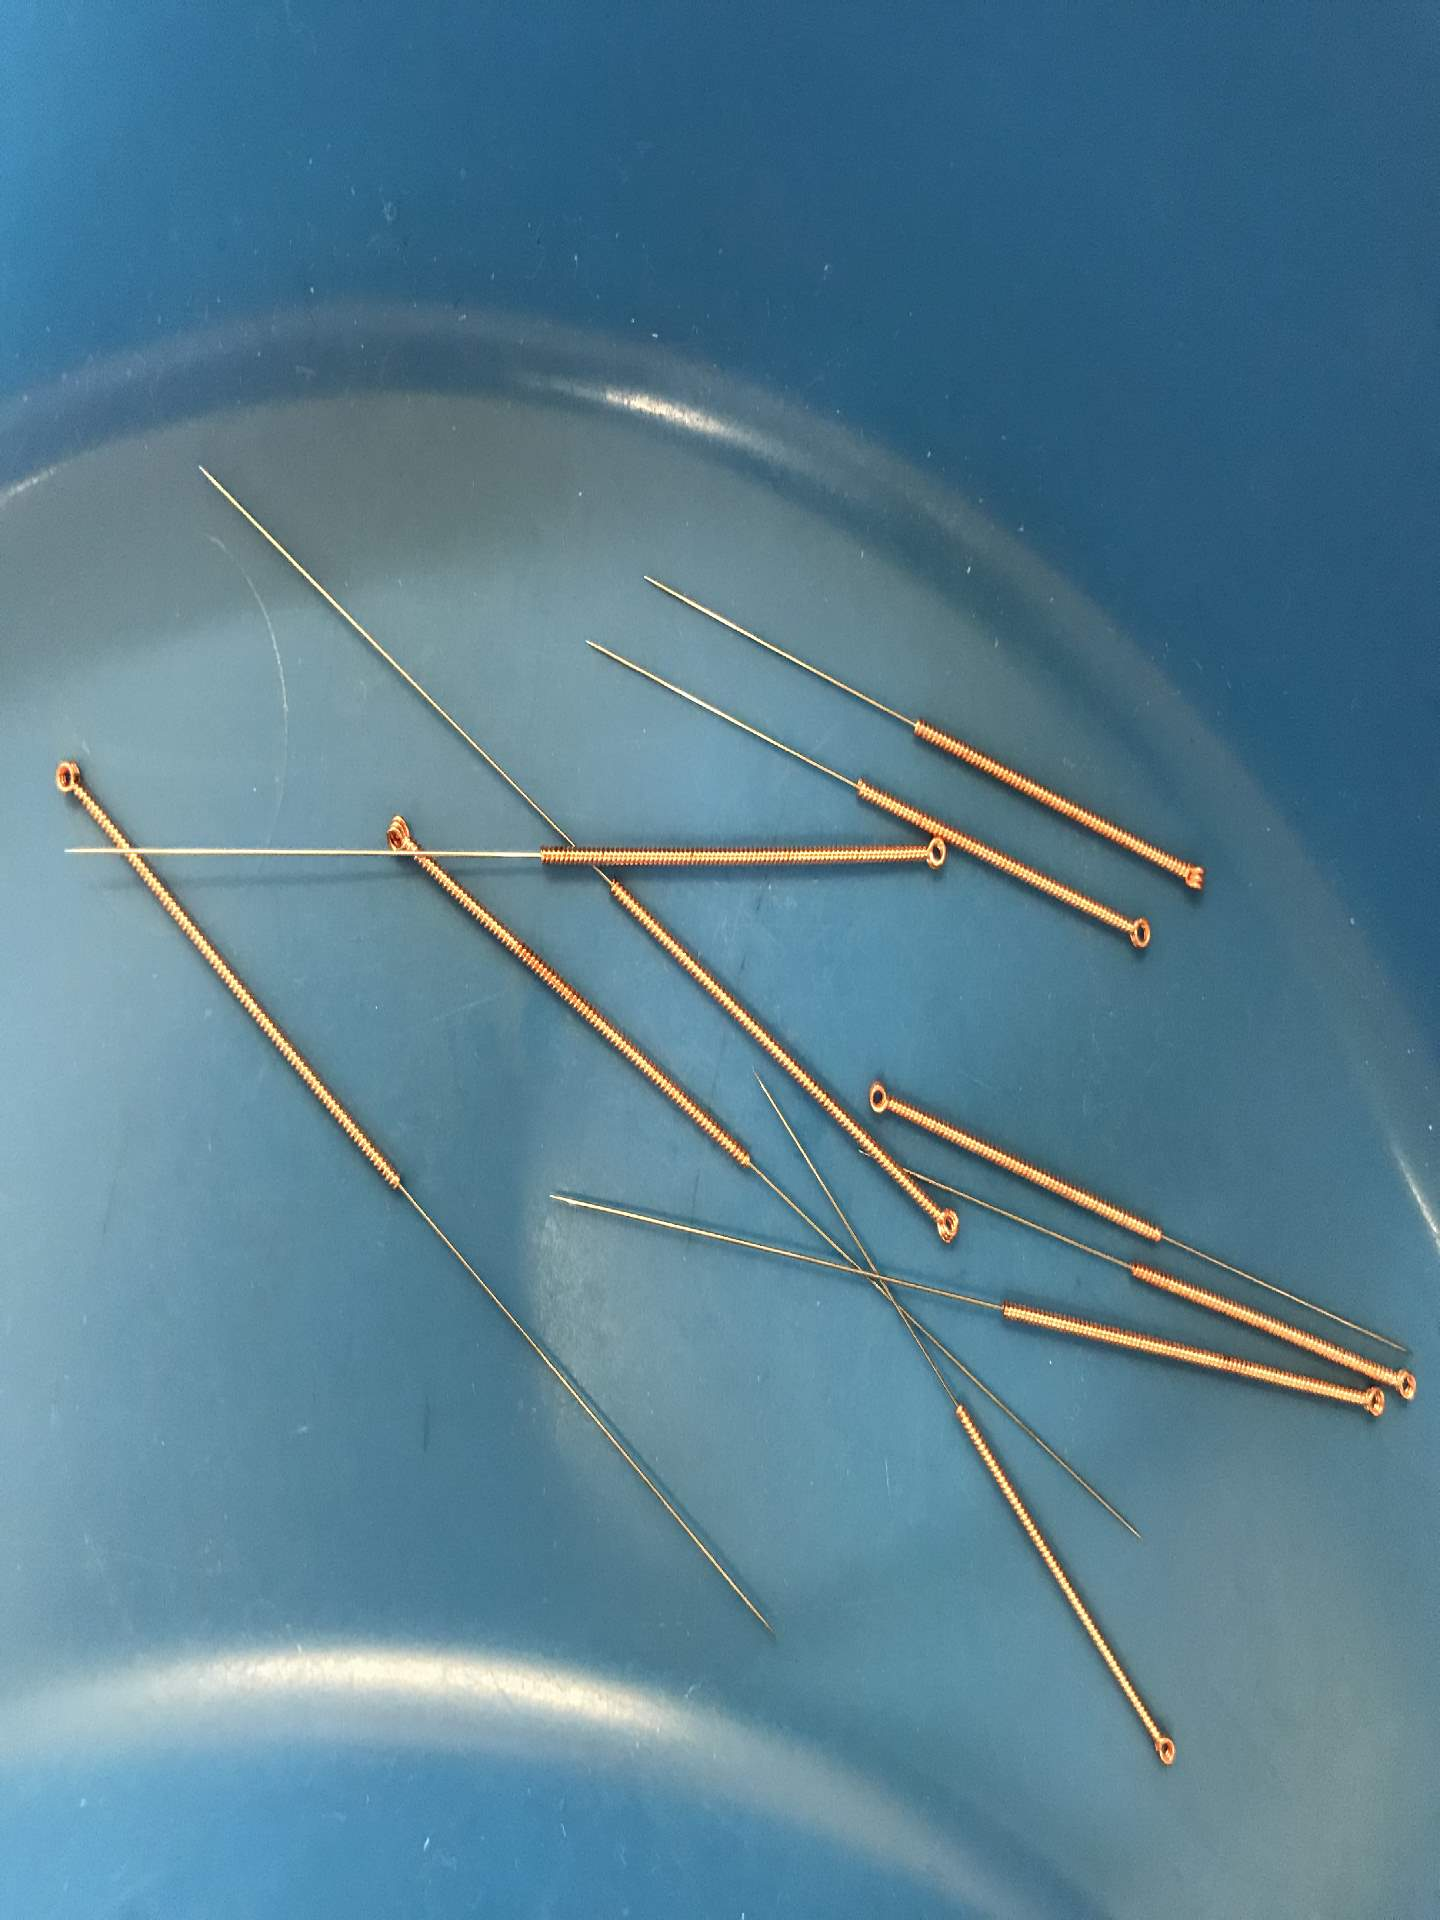needle: (41, 744, 92, 812), (371, 804, 425, 865), (918, 1193, 973, 1253), (1136, 1717, 1187, 1776), (1109, 906, 1163, 960), (858, 1069, 908, 1128), (1163, 850, 1216, 903), (898, 830, 951, 878), (1345, 1380, 1392, 1426), (1386, 1358, 1423, 1411)
